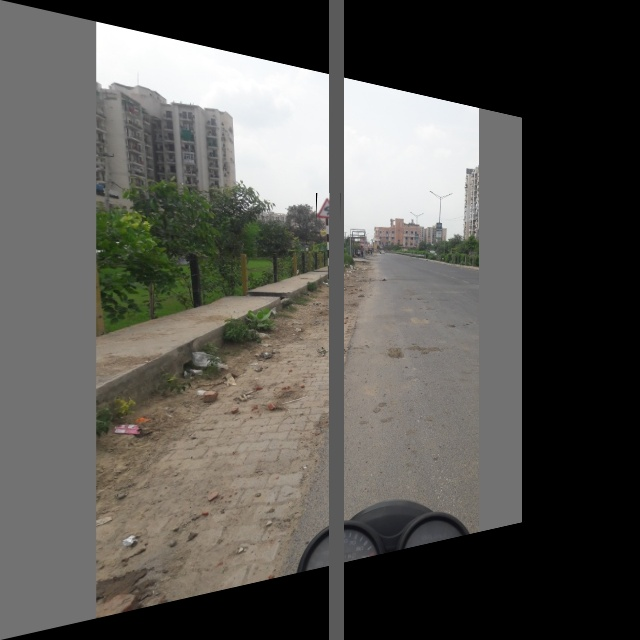Left_Reverse_Bend: (316, 193, 341, 223)
